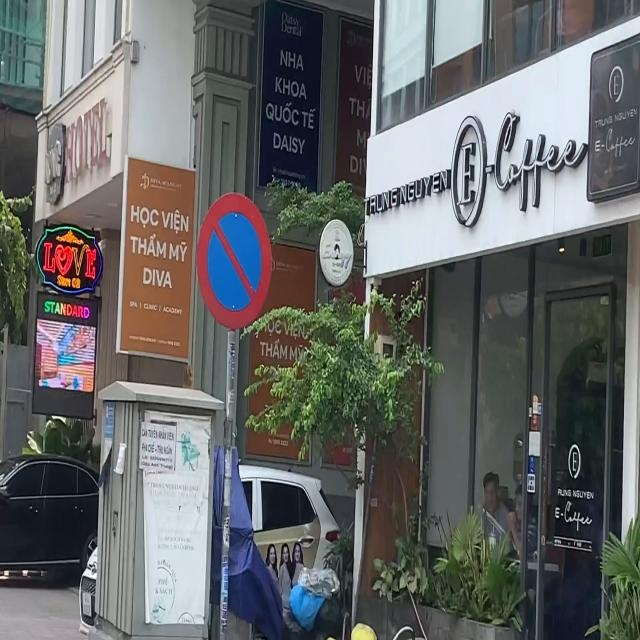bien_cam: (196, 193, 272, 330)
